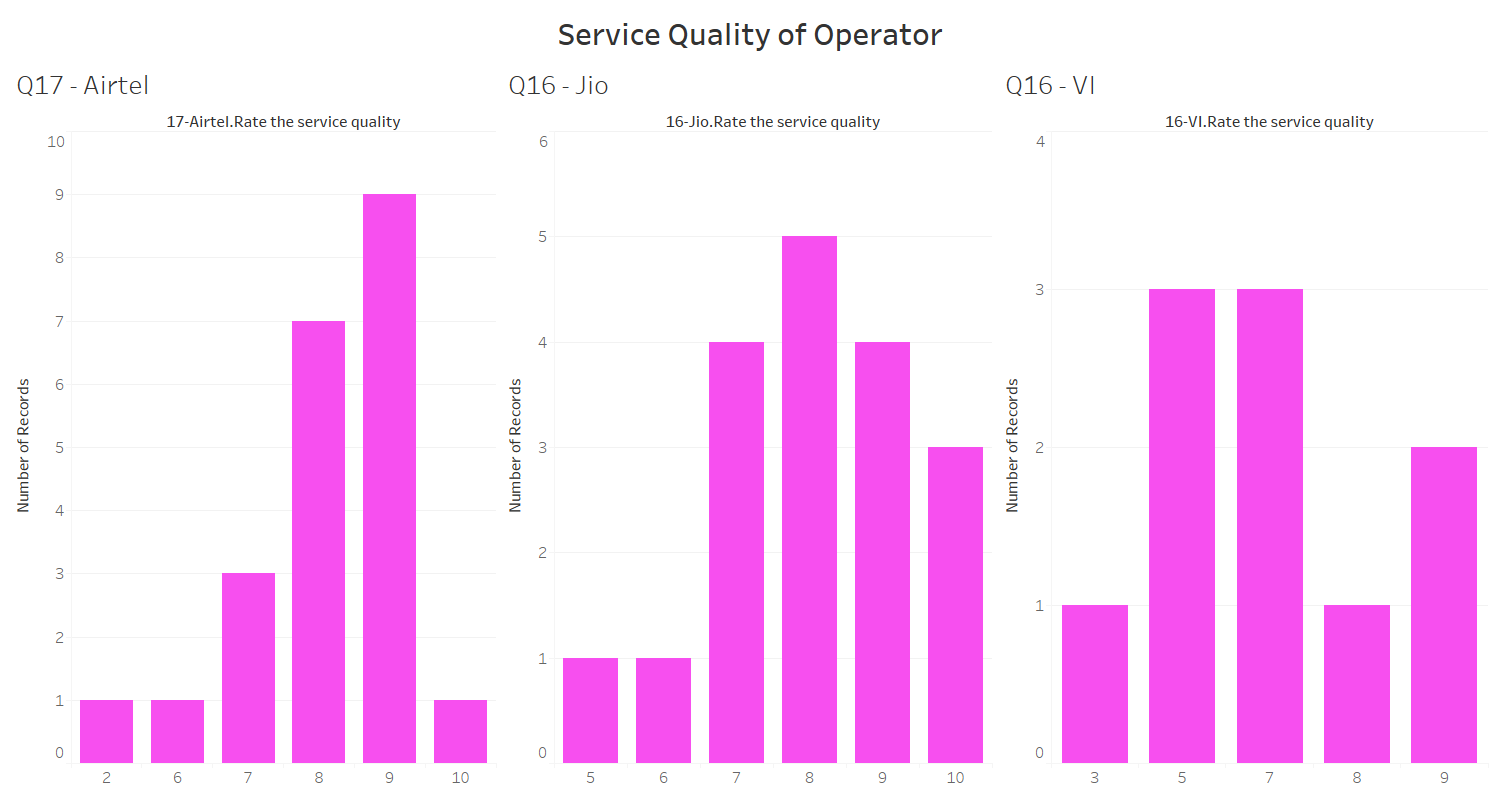

This screenshot's page, from the dashboard's own definition file:
{"tool":"tableau","page":{"name":"Service Quality of Operator","canvas":[1500,800],"ordinal":3},"visuals":[{"type":"title","box":[8,8,1484,49]},{"type":"worksheet","title":"Q17 - Airtel","mark":"Automatic","rows":["Number of Records"],"cols":["17-Airtel.Rate the service quality"],"box":[8,57,492,735]},{"type":"worksheet","title":"Q16 - Jio","mark":"Automatic","rows":["Number of Records"],"cols":["16-Jio.Rate the service quality"],"box":[500,57,497.3,735]},{"type":"worksheet","title":"Q16 - VI","mark":"Automatic","rows":["Number of Records"],"cols":["16-VI.Rate the service quality"],"box":[997.3,57,494.7,735]}]}

Visuals, with their boxes in screenshot pixels (x1, y1, x2, y2), scaled from the page's 1500x800 canvas onto the 1500x800 screenshot:
title: 8/8/1492/57
"Q17 - Airtel" worksheet: 8/57/500/792
"Q16 - Jio" worksheet: 500/57/997/792
"Q16 - VI" worksheet: 997/57/1492/792
